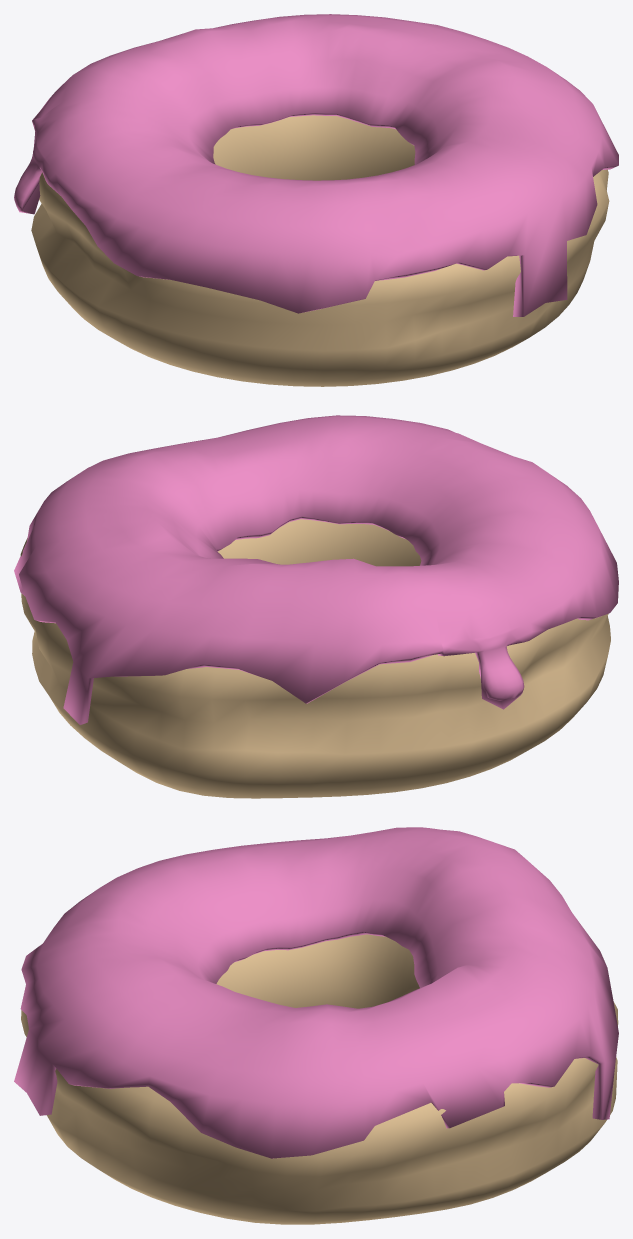
The model's file is Donut.gltf.
The picture shows the model from 3 angles, top to bottom: view 1: azimuth 30°, elevation 25°; view 2: azimuth 150°, elevation 25°; view 3: azimuth 270°, elevation 25°; orthographic projection. The views are drawn at different scales.
Visible parts, largest first — view 1: Icing.001, Body.001; view 2: Icing.001, Body.001; view 3: Icing.001, Body.001.
Boxes of the visible parts, left/top/right/bottom form: Icing.001: left=14, top=14, right=618, bottom=316; Body.001: left=31, top=115, right=609, bottom=386; Icing.001: left=14, top=415, right=618, bottom=724; Body.001: left=20, top=519, right=610, bottom=798; Icing.001: left=14, top=827, right=618, bottom=1158; Body.001: left=21, top=934, right=618, bottom=1224.
Size of what is drawn, in the model's own units: 0.1525 by 0.0607 by 0.1467.
